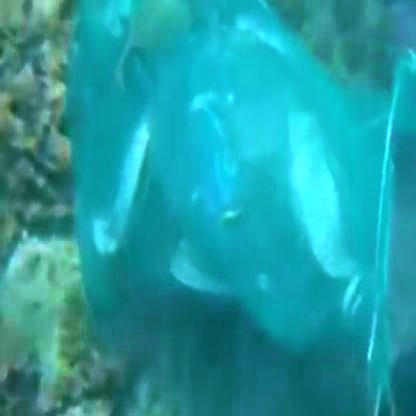plastic: (90, 28, 400, 312)
